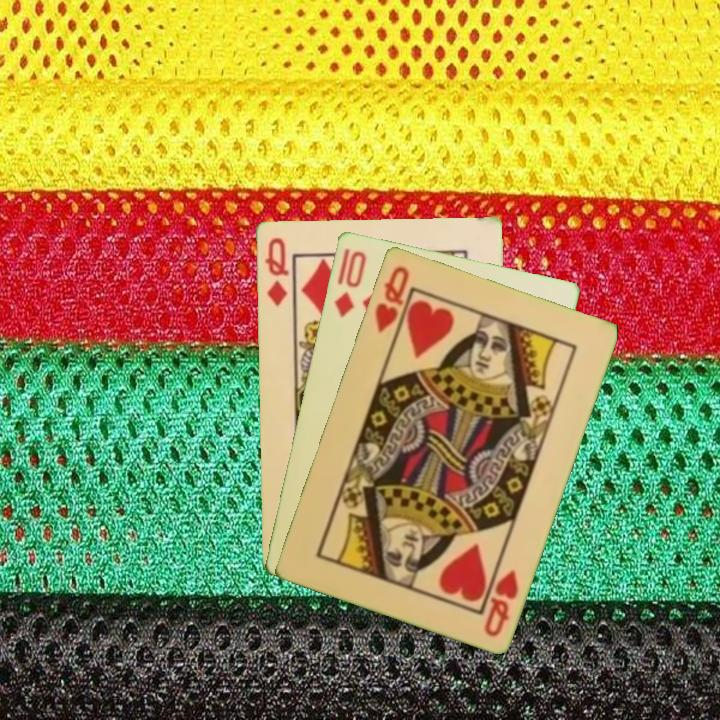10d: (330, 247, 369, 320)
Qd: (261, 234, 292, 309)
Qh: (370, 262, 414, 344), (480, 565, 521, 639)
